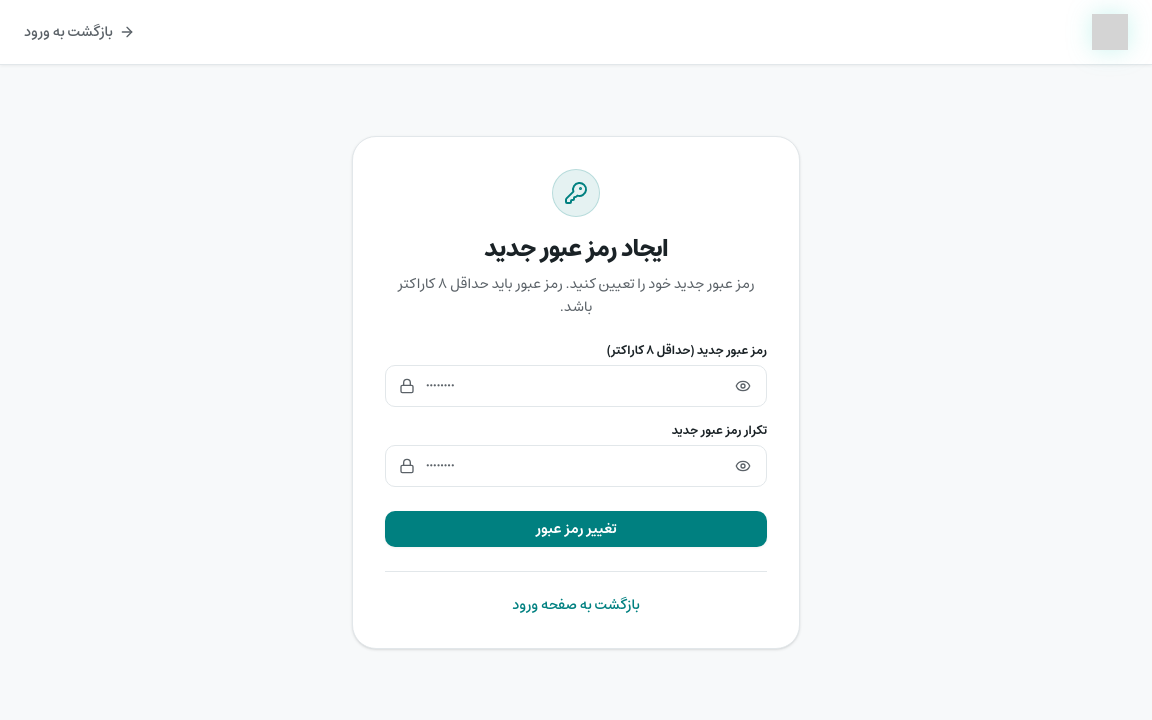
Test: Auth UI - Forgot Password & Reset Password Flow › ResetPasswordPage › displays error message and retry prompt if reset token is invalid or expired
Step 1. Type "someValidPassword123" into the password field with id "new-password" → x=576, y=386, box x1=385 y1=365 x2=767 y2=407
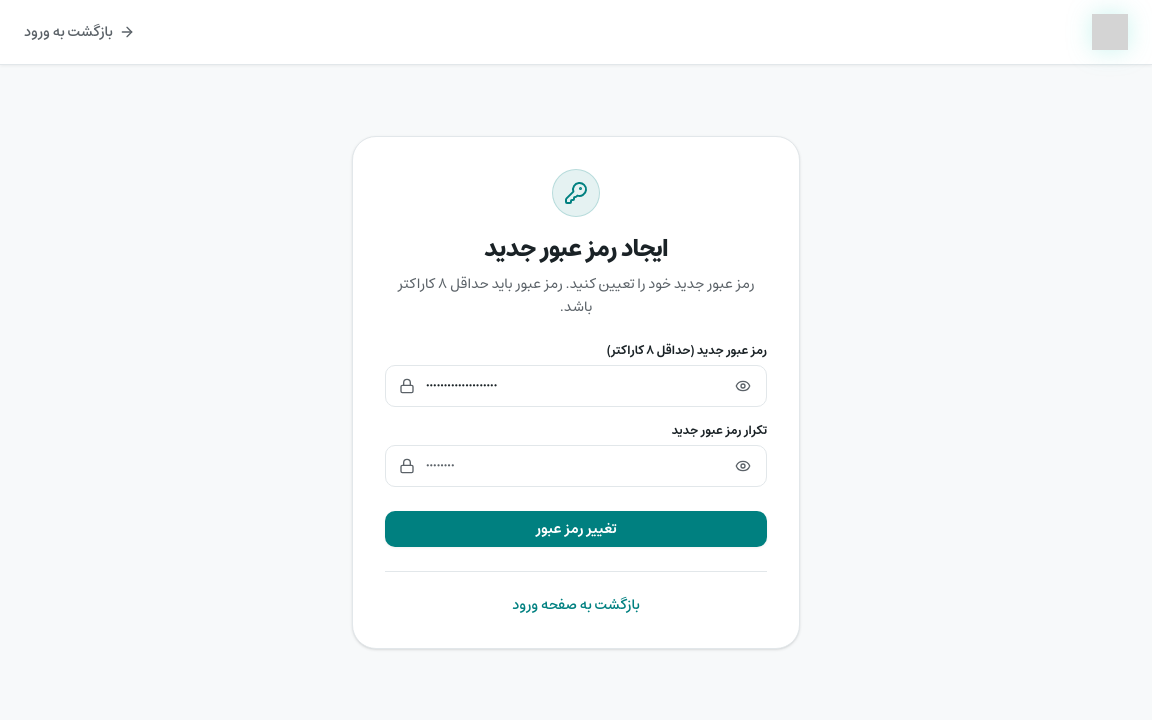
Step 2. Type "someValidPassword123" into the password field with id "confirm-new-password" → x=576, y=466, box x1=385 y1=445 x2=767 y2=487
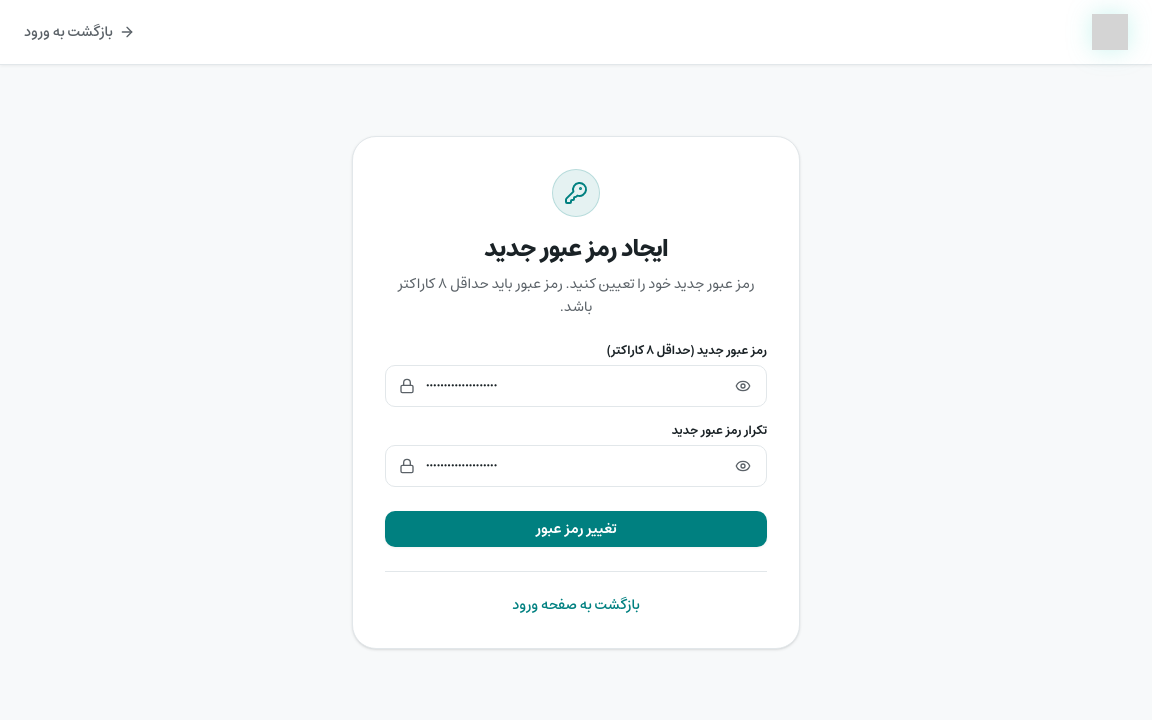
Step 3. Submit the form, box x1=385 y1=343 x2=767 y2=547
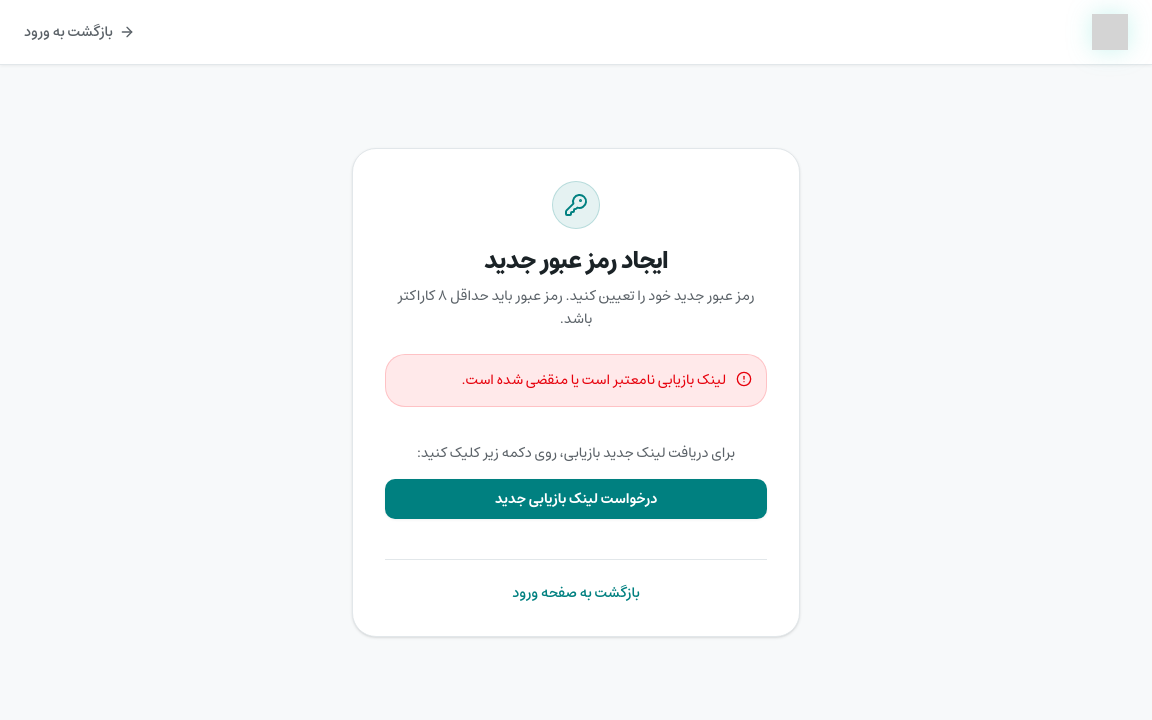
Check: the text "لینک بازیابی نامعتبر است یا منقضی شده است." is shown, box x1=462 y1=369 x2=726 y2=392
Check: the link "درخواست لینک بازیابی جدید" is shown, box x1=385 y1=479 x2=767 y2=519
